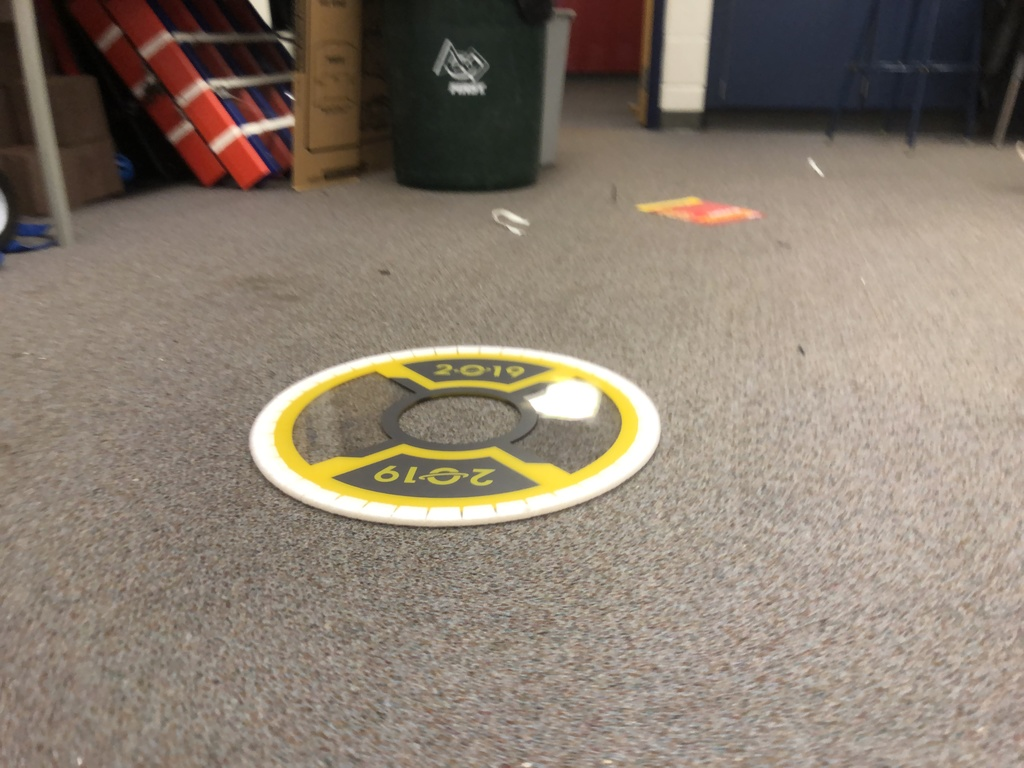hatch_panel: (246, 330, 671, 536)
